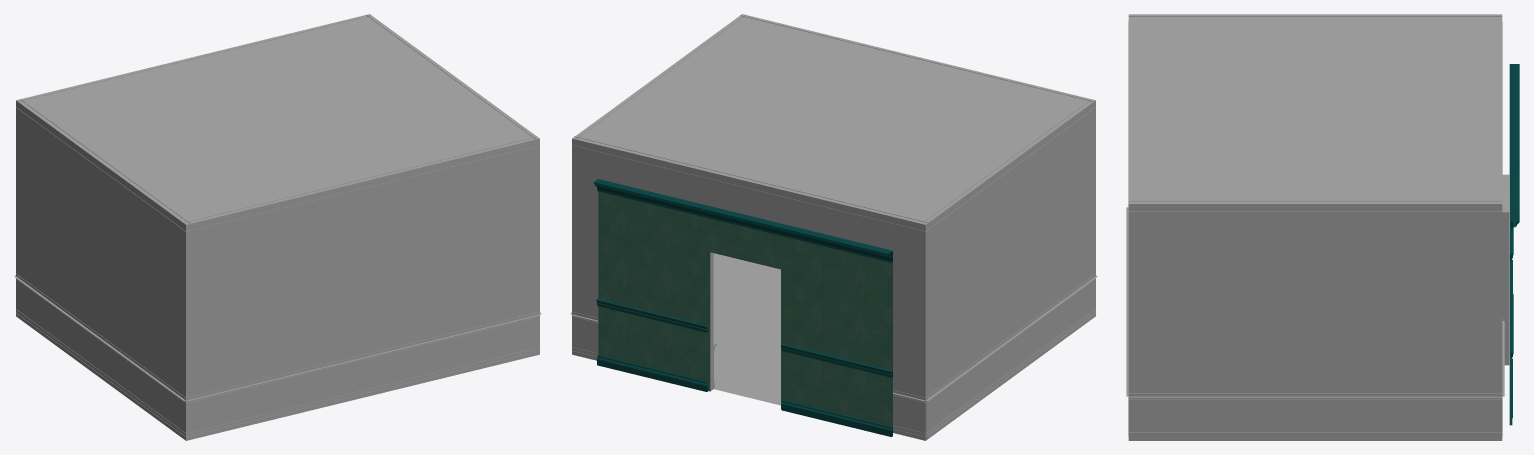
File: Night_One_Start_Room 1.fbx
3 renders of one model, left to right at view 1: azimuth 30°, elevation 25°; view 2: azimuth 150°, elevation 25°; view 3: azimuth 270°, elevation 25°, orthographic. The views are drawn at different scales.
Parts seen in each view (by area): view 1: back_wall, ceiling, left_wall; view 2: ceiling, hallway_part, left_wall, front_wall, ground; view 3: right_wall, ceiling, hallway_part, front_wall, back_wall.
Boxes of the visible parts, bbox=[...] form: back_wall: bbox=[184, 136, 540, 440]; ceiling: bbox=[16, 14, 539, 224]; left_wall: bbox=[14, 99, 189, 440]; ceiling: bbox=[572, 14, 1095, 224]; hallway_part: bbox=[593, 179, 892, 436]; left_wall: bbox=[922, 99, 1097, 440]; front_wall: bbox=[571, 136, 929, 440]; ground: bbox=[713, 253, 780, 405]; right_wall: bbox=[1128, 201, 1502, 440]; ceiling: bbox=[1128, 14, 1502, 203]; hallway_part: bbox=[1509, 64, 1519, 425]; front_wall: bbox=[1502, 22, 1509, 436]; back_wall: bbox=[1126, 22, 1128, 436].
Bounding box in the file's own units: 12.13 × 7.02 × 10.53.
